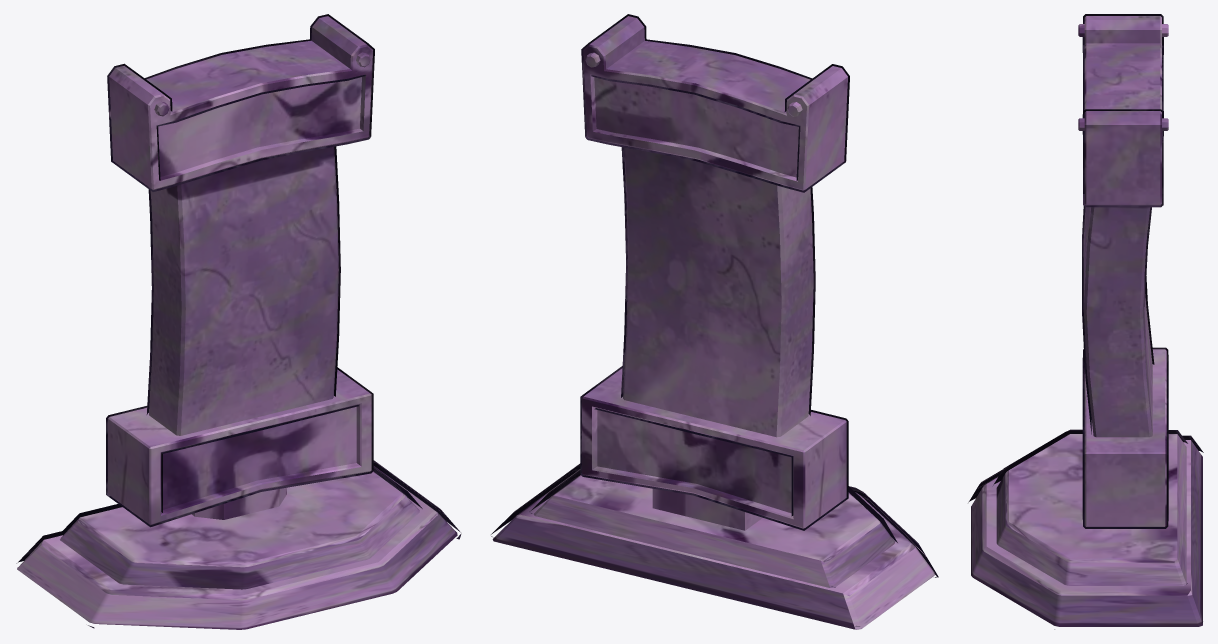
The model's file is pm-signal-02.glb.
3 renders of one model, left to right at view 1: azimuth 30°, elevation 25°; view 2: azimuth 150°, elevation 25°; view 3: azimuth 270°, elevation 25°, orthographic. The views are drawn at different scales.
Parts seen in each view (by area): view 1: Signal_02_Art; view 2: Signal_02_Art; view 3: Signal_02_Art.
Part boxes in pixels (x1,y1,x2,y2): Signal_02_Art: (16, 14, 461, 629); Signal_02_Art: (491, 14, 938, 629); Signal_02_Art: (968, 14, 1203, 629).
Size of what is drawn, in the model's own units: 2.98 by 3.81 by 1.7.
Materials: 2 (2 with a texture image).
